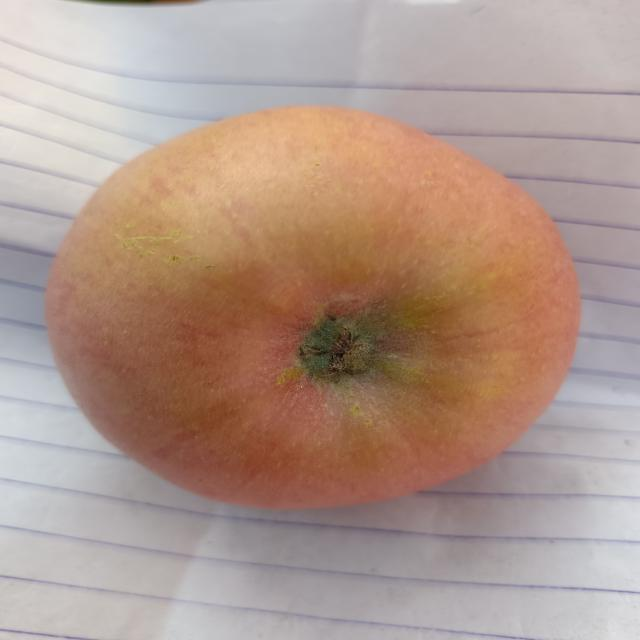Fresh Apple: (44, 99, 582, 518)
